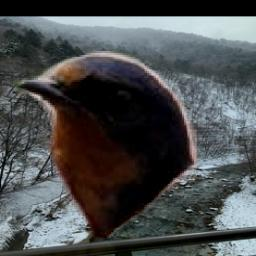Swallow: (14, 50, 198, 240)
